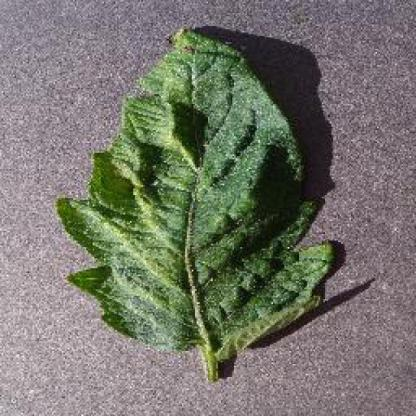Tomato_Spider_Mites: (57, 32, 332, 347)
